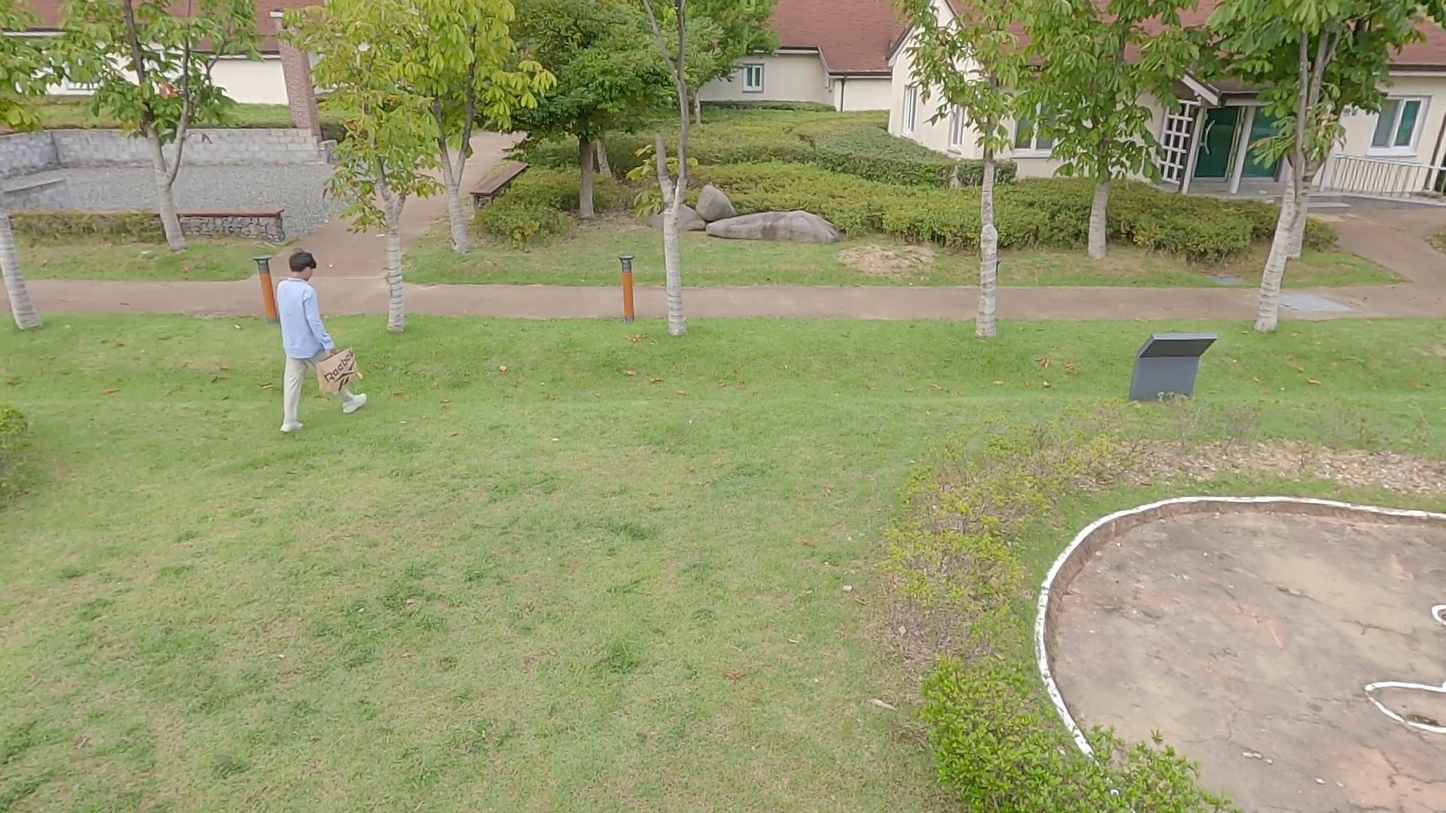person: (274, 249, 370, 433)
trash: (315, 347, 367, 395)
